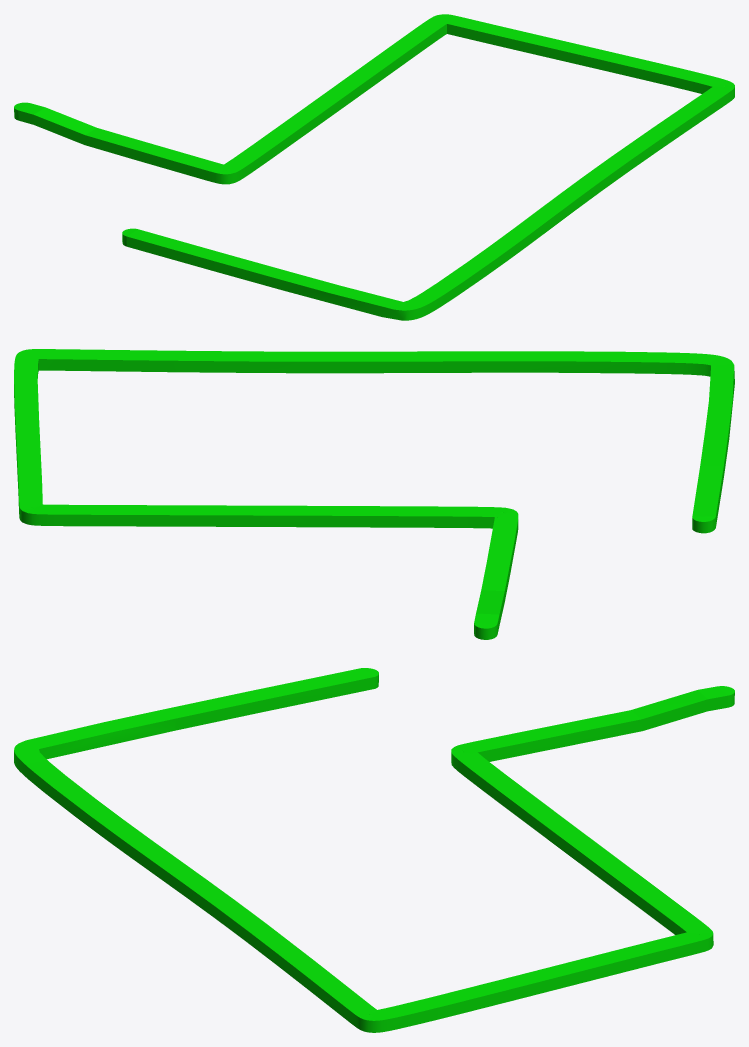
The model's file is StreetRoute2.fbx.
3 views of the same model, one above another, from view 1: azimuth 30°, elevation 25°; view 2: azimuth 150°, elevation 25°; view 3: azimuth 270°, elevation 25° (orthographic). The views are drawn at different scales.
Visible parts, largest first — view 1: StreetRoute2; view 2: StreetRoute2; view 3: StreetRoute2.
Boxes of the visible parts, <box> form: StreetRoute2: <box>14,14,734,320</box>; StreetRoute2: <box>14,349,734,639</box>; StreetRoute2: <box>14,668,734,1032</box>.
Bounding box in the file's own units: 524 × 13.35 × 452.
